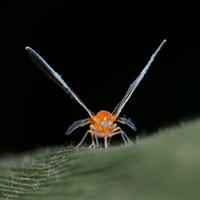insect: (25, 39, 165, 147)
